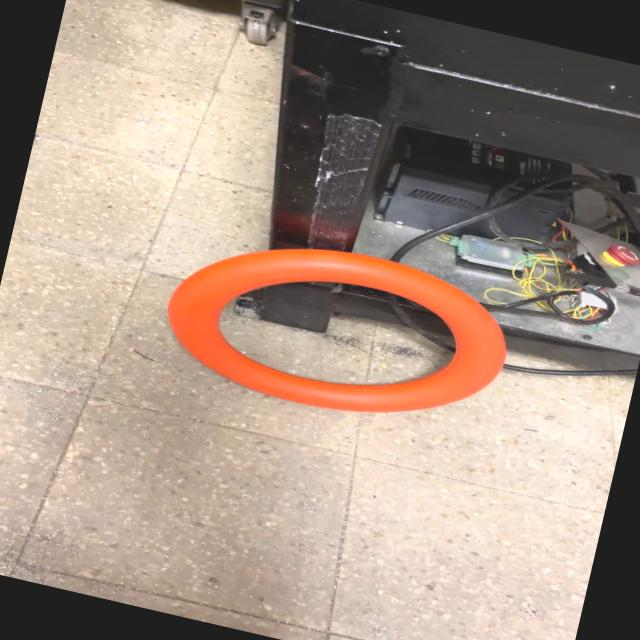note: (149, 211, 524, 449)
